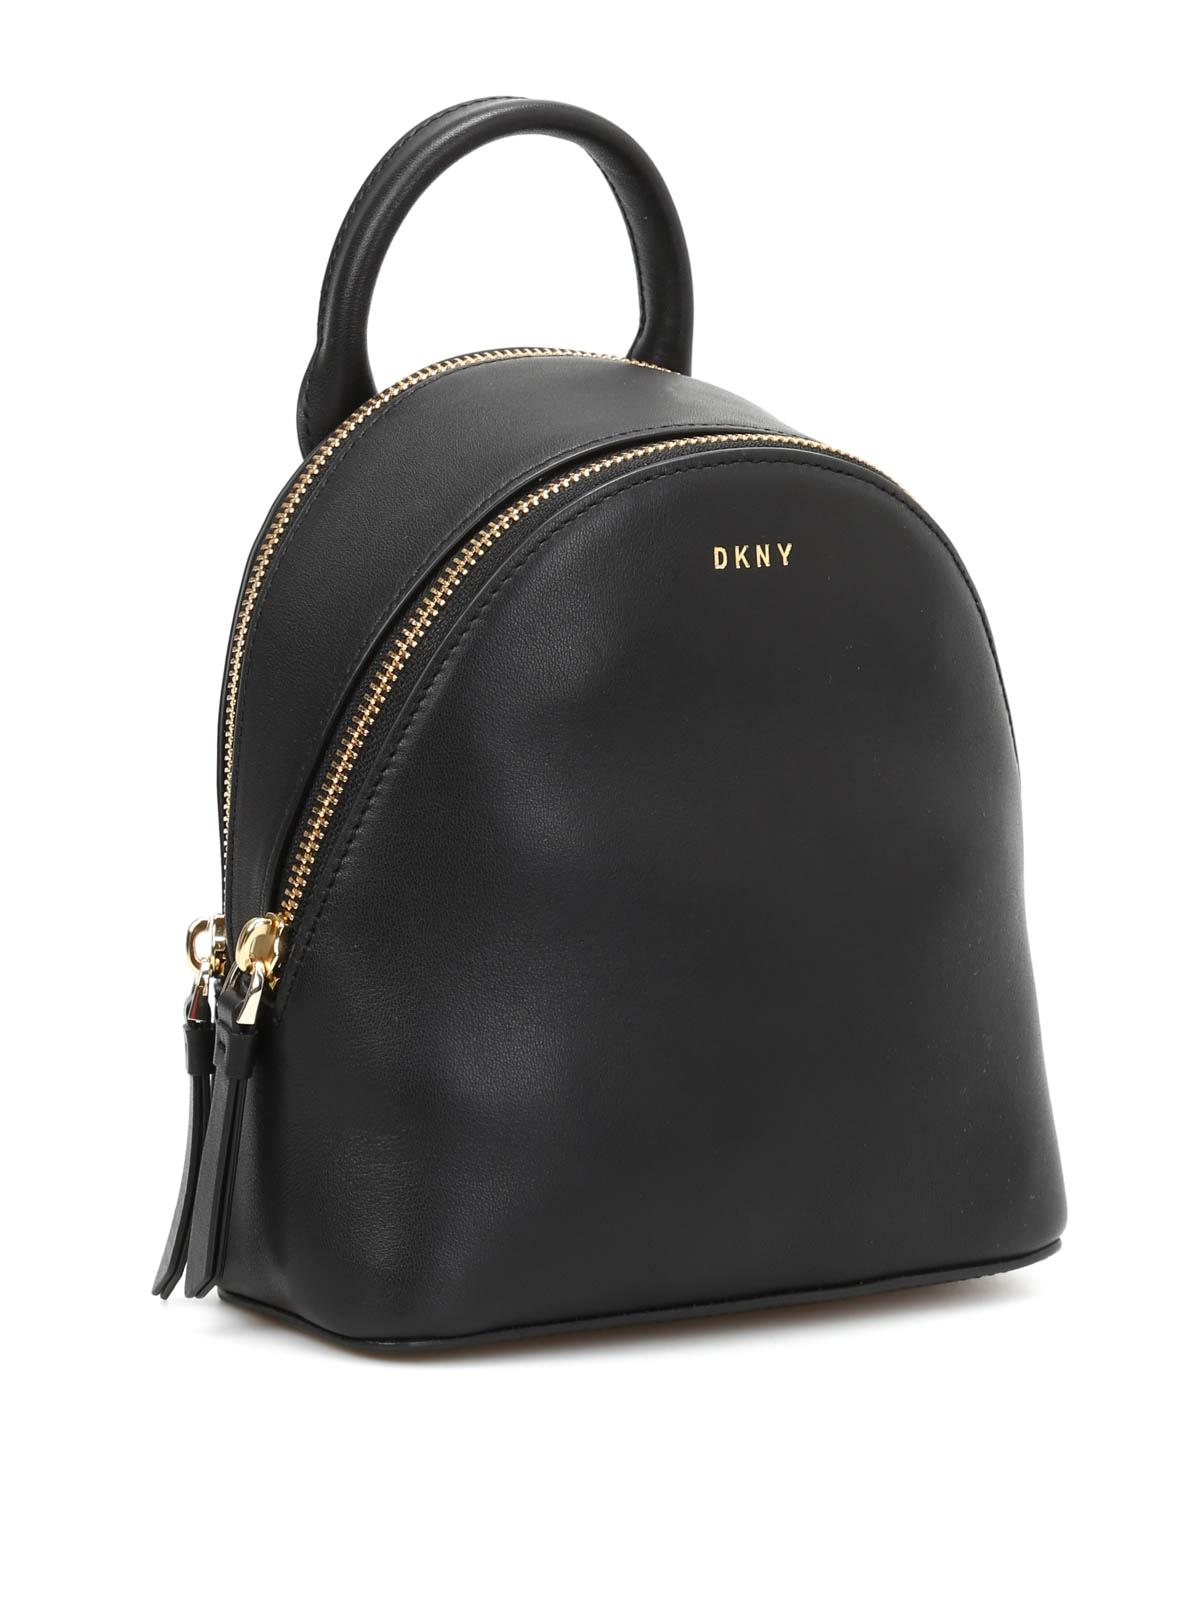DKNY: (715, 543, 793, 569)
